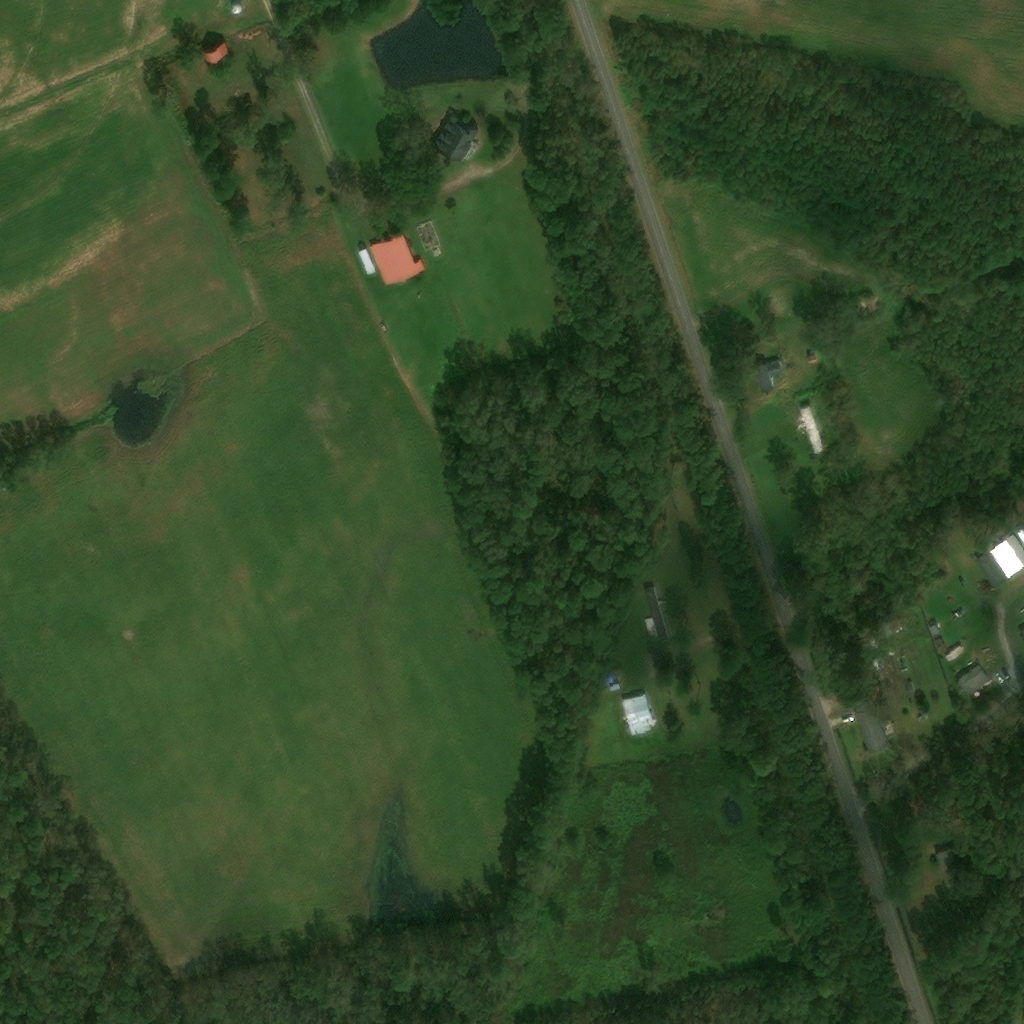no_damage: (371, 231, 428, 285), (853, 693, 892, 752), (433, 111, 477, 158), (620, 692, 656, 735), (646, 586, 672, 639), (989, 537, 1024, 576), (934, 845, 964, 890), (976, 548, 1009, 586), (801, 403, 827, 451), (958, 665, 990, 692), (753, 360, 785, 386), (852, 626, 880, 655), (877, 611, 904, 637), (1006, 532, 1024, 563), (932, 622, 950, 651), (359, 247, 378, 273), (203, 40, 229, 58), (946, 644, 966, 660), (906, 681, 917, 695), (807, 352, 819, 363), (603, 672, 614, 683), (1018, 627, 1024, 640)
